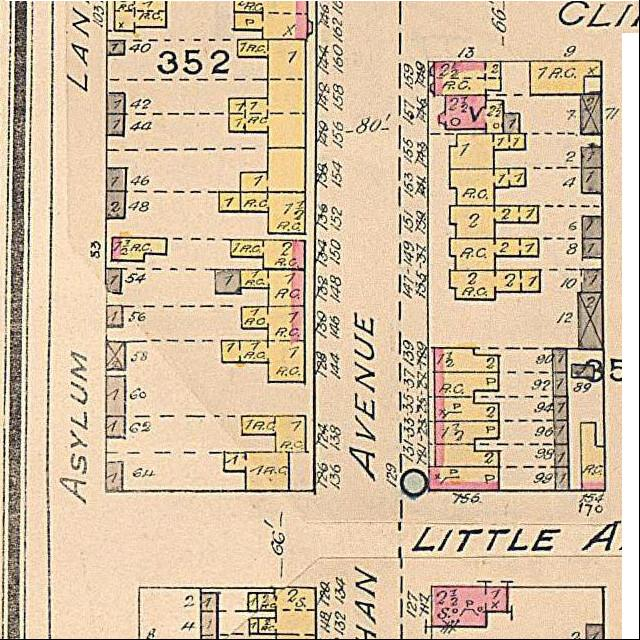building-footprints: (222, 270, 306, 383), (230, 40, 306, 149), (225, 416, 307, 492), (432, 587, 508, 628), (258, 588, 317, 640), (235, 1, 313, 40), (241, 148, 306, 193), (451, 206, 538, 239), (450, 239, 539, 271), (451, 169, 526, 206), (241, 192, 306, 234), (451, 134, 525, 170), (451, 271, 541, 300), (440, 95, 504, 134), (431, 62, 501, 96), (531, 61, 601, 95), (231, 240, 306, 270), (430, 467, 500, 491), (435, 372, 499, 398), (581, 423, 605, 491), (435, 397, 499, 422), (435, 348, 499, 373), (115, 1, 167, 31), (435, 444, 499, 468), (578, 293, 604, 350), (435, 422, 500, 444), (113, 238, 167, 261), (581, 95, 603, 135), (201, 594, 218, 640), (107, 376, 126, 416), (216, 270, 241, 294), (582, 168, 603, 194), (106, 462, 123, 492), (107, 191, 125, 219), (107, 342, 125, 370), (582, 216, 603, 239), (582, 270, 603, 293), (107, 168, 126, 192), (220, 192, 241, 213), (106, 416, 126, 438), (106, 269, 122, 294), (582, 148, 602, 168), (583, 239, 603, 259), (107, 94, 125, 114), (555, 467, 570, 491), (108, 114, 124, 136), (107, 306, 123, 328), (553, 349, 567, 373), (553, 373, 567, 397), (572, 365, 595, 379), (554, 397, 568, 420), (555, 445, 569, 468), (504, 114, 520, 134), (555, 421, 568, 445), (108, 41, 125, 56), (587, 625, 604, 639), (248, 593, 258, 611), (250, 618, 259, 635)
